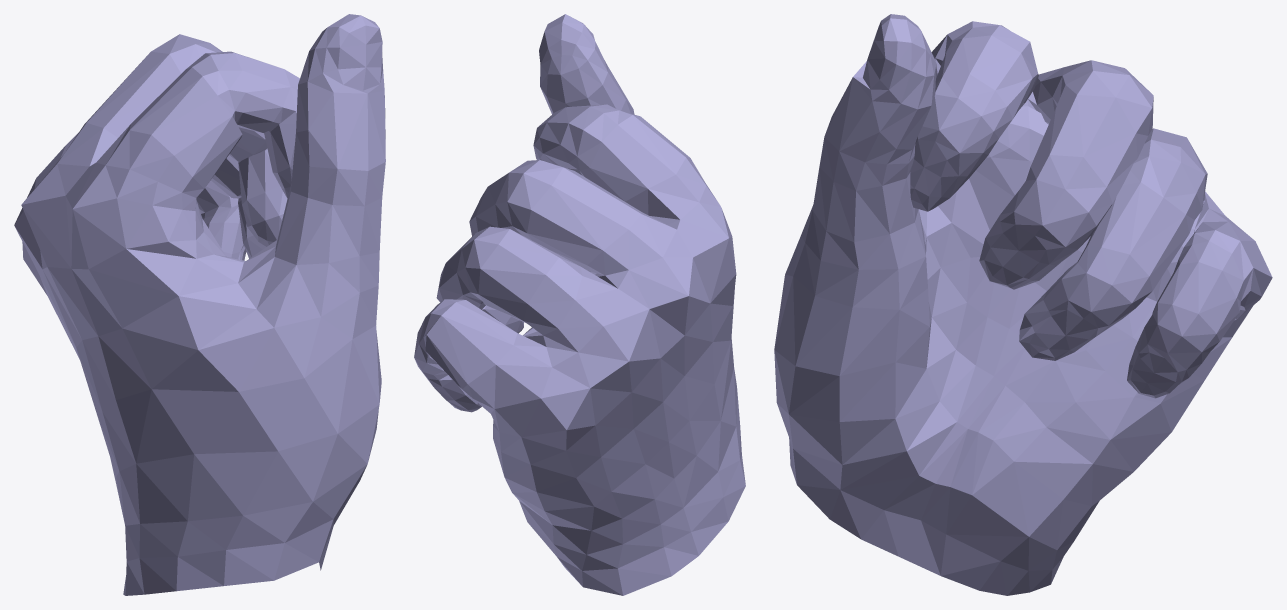
Rendered from frame_0069_source_000069_hand.glb.
3 views of the same model, side by side, from view 1: azimuth 30°, elevation 25°; view 2: azimuth 150°, elevation 25°; view 3: azimuth 270°, elevation 25° (orthographic). The views are drawn at different scales.
Parts seen in each view (by area): view 1: world; view 2: world; view 3: world.
Boxes of the visible parts, left/top/right/bottom form: world: left=14, top=14, right=385, bottom=595; world: left=414, top=14, right=745, bottom=595; world: left=774, top=14, right=1272, bottom=595.
Size of the model in its own units: 0.064 by 0.1279 by 0.0938.
